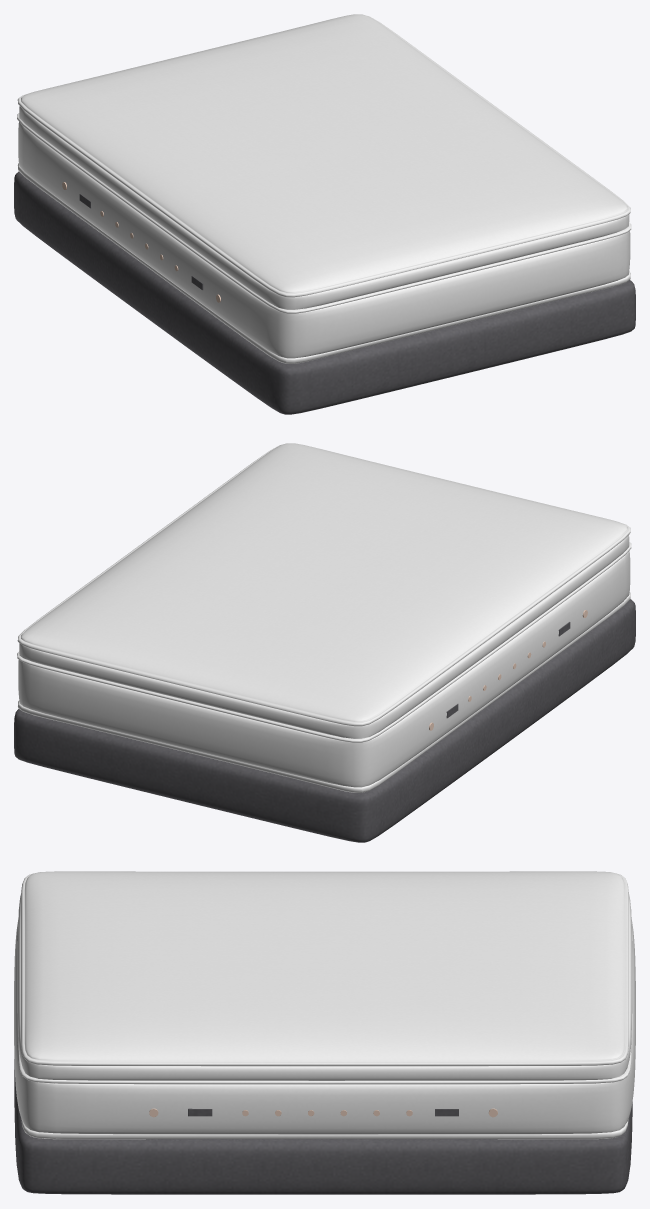
Rendered from MEGA_PACK_Mattress__mattress-162182_LQ_Ivory.glb.
3 views of the same model, one above another, from view 1: azimuth 30°, elevation 25°; view 2: azimuth 150°, elevation 25°; view 3: azimuth 270°, elevation 25° (orthographic). The views are drawn at different scales.
Visible parts, largest first — view 1: mattress-162182_LQ_Ivory; view 2: mattress-162182_LQ_Ivory; view 3: mattress-162182_LQ_Ivory.
Part boxes in pixels (box(x1,y1,x2,y2)): mattress-162182_LQ_Ivory: box(14, 14, 635, 414); mattress-162182_LQ_Ivory: box(14, 443, 635, 842); mattress-162182_LQ_Ivory: box(14, 871, 635, 1194).
Bounding box in the file's own units: 1.55 × 0.585 × 2.05.
1 material, 1 textured.
